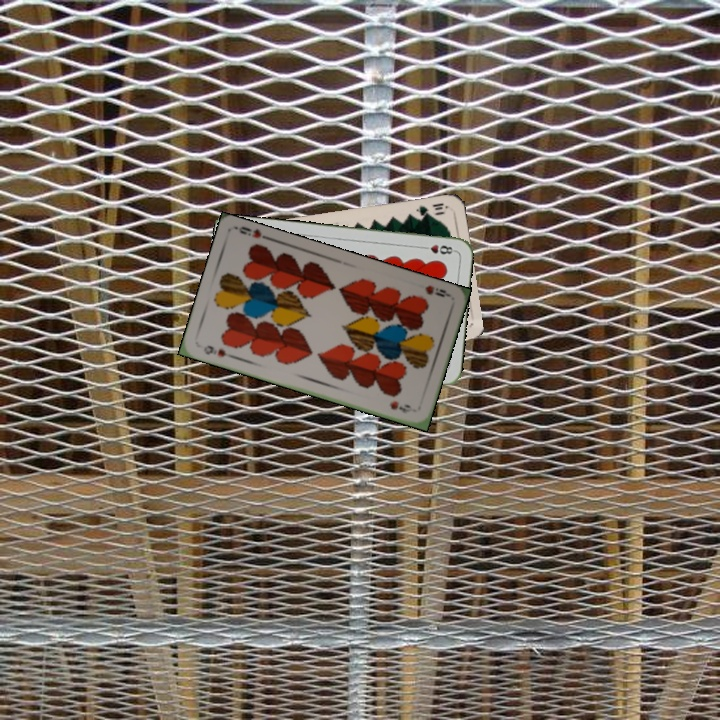G10: (412, 199, 450, 219)
H8: (417, 240, 457, 257)
H9: (199, 341, 236, 361), (421, 281, 452, 300)
